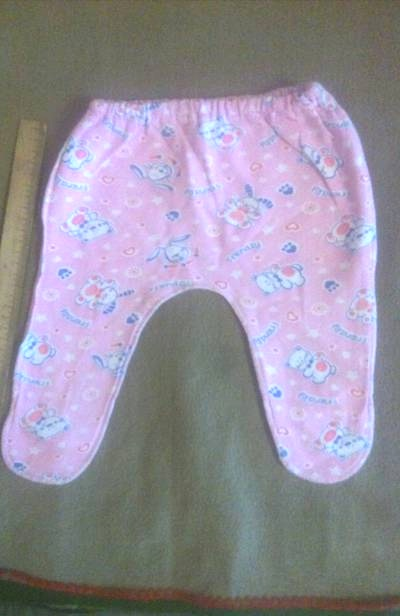Pants: (23, 84, 375, 507)
